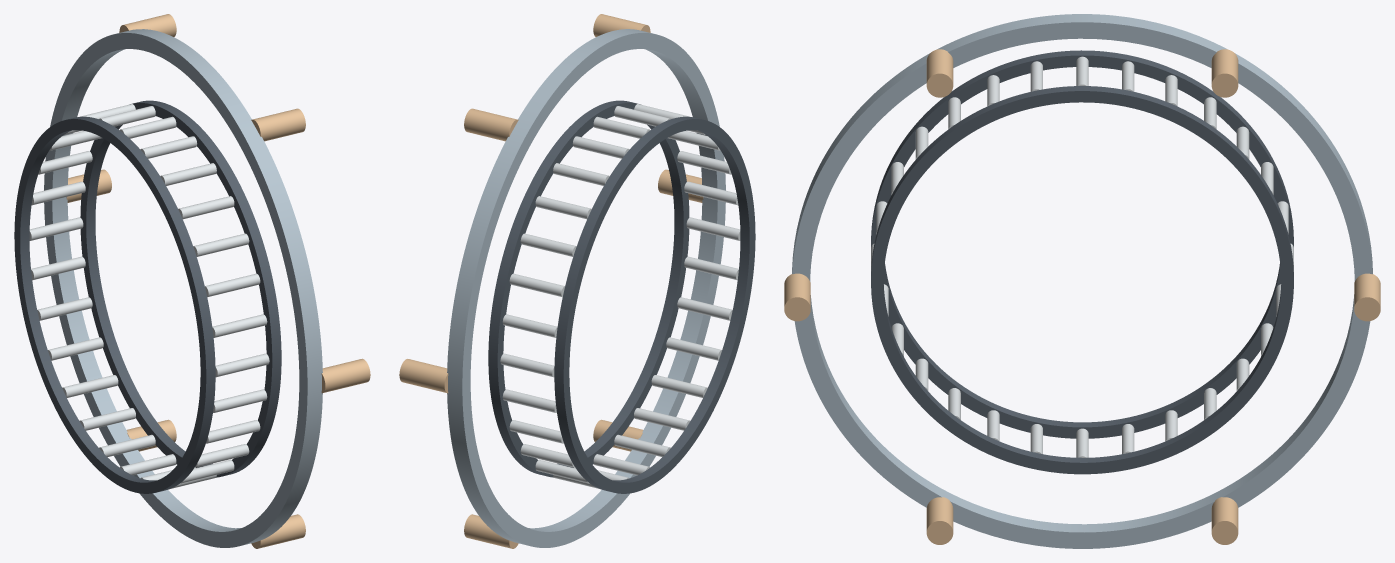
The model's file is bearing-roller-train.glb.
3 views of the same model, side by side, from view 1: azimuth 30°, elevation 25°; view 2: azimuth 150°, elevation 25°; view 3: azimuth 270°, elevation 25° (orthographic). The views are drawn at different scales.
Visible parts, largest first — view 1: bearing-roller-train - seal, bearing-roller-train - steel, bearing-roller-train - fastener, bearing-roller-train - bronze; view 2: bearing-roller-train - seal, bearing-roller-train - steel, bearing-roller-train - fastener, bearing-roller-train - bronze; view 3: bearing-roller-train - steel, bearing-roller-train - seal, bearing-roller-train - fastener, bearing-roller-train - bronze.
Part boxes in pixels (bbox=[...]): bearing-roller-train - seal: bbox=[14, 100, 281, 493]; bearing-roller-train - steel: bbox=[44, 29, 322, 547]; bearing-roller-train - fastener: bbox=[29, 104, 269, 488]; bearing-roller-train - bronze: bbox=[66, 14, 370, 548]; bearing-roller-train - seal: bbox=[488, 100, 755, 493]; bearing-roller-train - steel: bbox=[447, 29, 725, 547]; bearing-roller-train - fastener: bbox=[500, 104, 740, 488]; bearing-roller-train - bronze: bbox=[399, 14, 703, 548]; bearing-roller-train - steel: bbox=[792, 14, 1372, 548]; bearing-roller-train - seal: bbox=[871, 50, 1293, 474]; bearing-roller-train - fastener: bbox=[871, 56, 1293, 457]; bearing-roller-train - bronze: bbox=[784, 49, 1380, 544].
Bounding box in the file's own units: 0.227 × 0.83 × 0.852.
